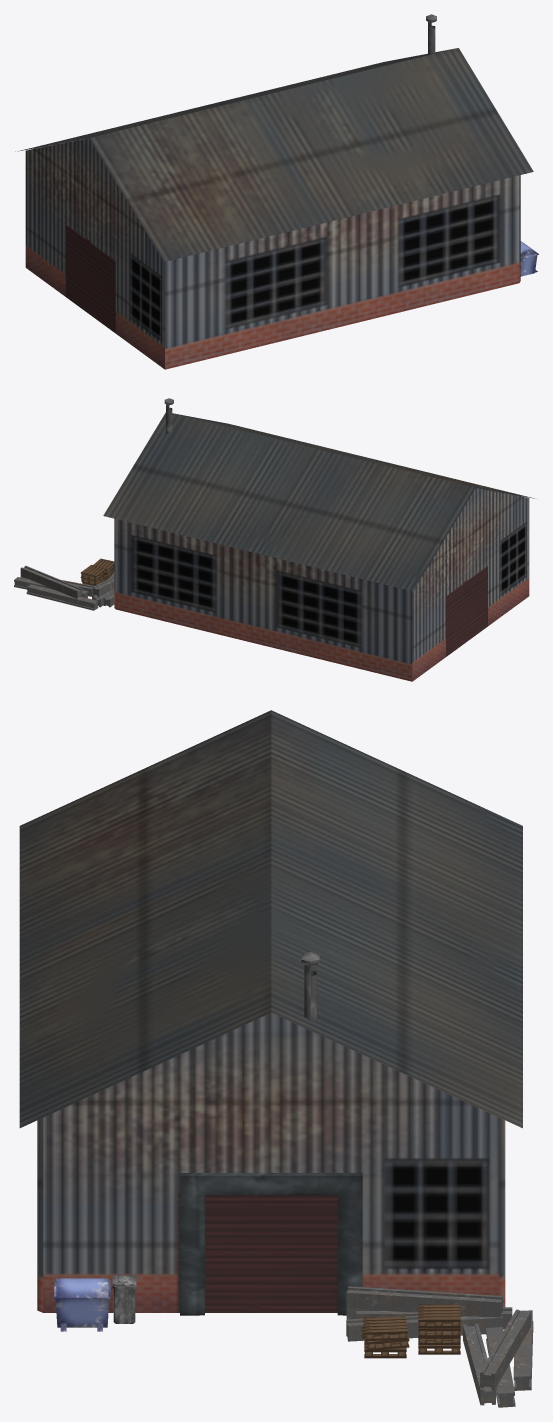
File: Warehouse.fbx
The picture shows the model from 3 angles, top to bottom: view 1: azimuth 30°, elevation 25°; view 2: azimuth 150°, elevation 25°; view 3: azimuth 270°, elevation 25°; orthographic projection. The views are drawn at different scales.
Parts seen in each view (by area): view 1: Warehouse; view 2: Warehouse; view 3: Warehouse.
Part boxes in pixels (bbox=[...]): Warehouse: bbox=[15, 14, 538, 369]; Warehouse: bbox=[14, 398, 534, 681]; Warehouse: bbox=[19, 710, 533, 1407].
Bounding box in the file's own units: 9.54 × 4.02 × 5.28.
1 material, 1 textured.
